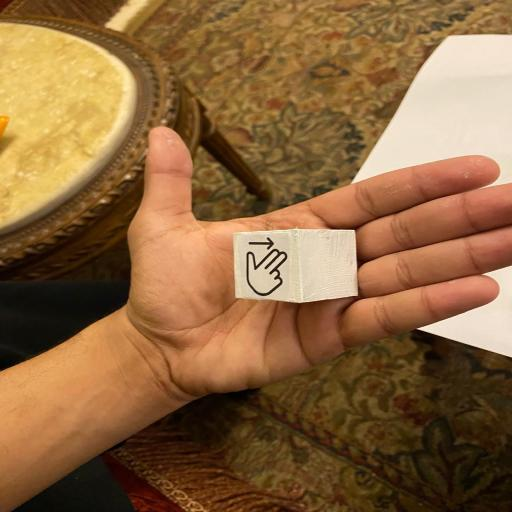RightSwipe: (231, 228, 359, 304)
